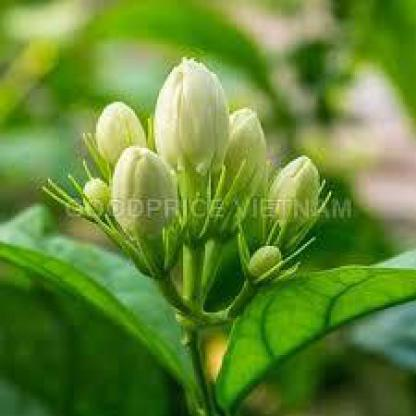Melati: (49, 58, 354, 312)
